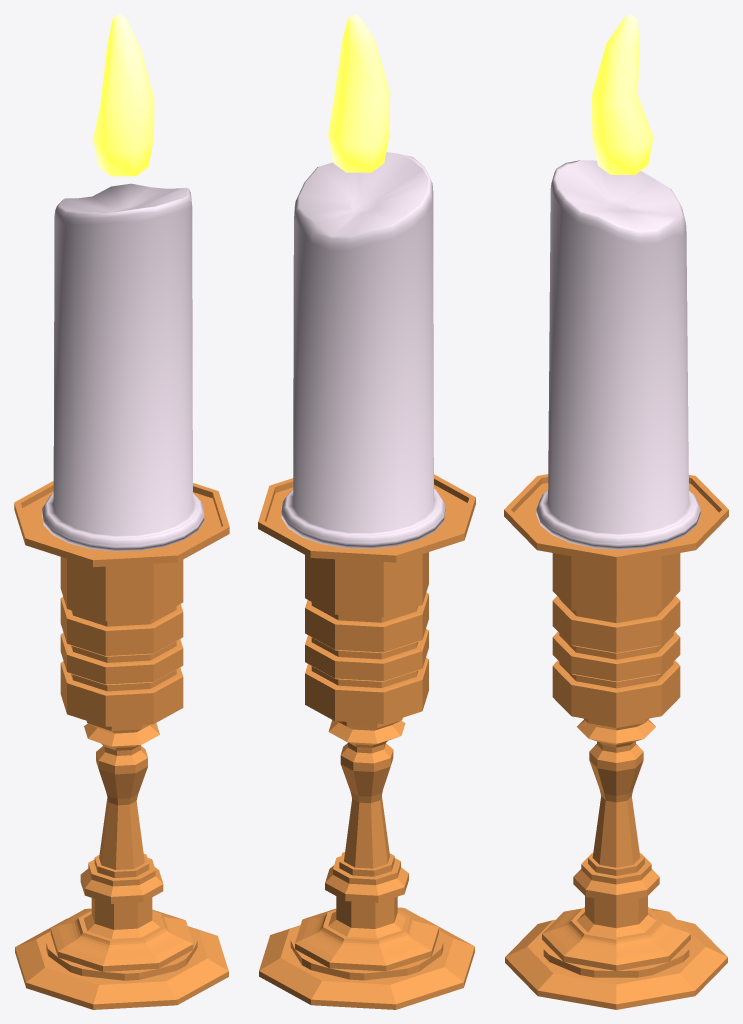
The model's file is CandleStand.fbx.
3 views of the same model, side by side, from view 1: azimuth 30°, elevation 25°; view 2: azimuth 150°, elevation 25°; view 3: azimuth 270°, elevation 25° (orthographic).
Parts seen in each view (by area): view 1: Cylinder, Cylinder.001, Sphere; view 2: Cylinder.001, Cylinder, Sphere; view 3: Cylinder, Cylinder.001, Sphere.
Boxes of the visible parts, bbox=[...] form: Cylinder: bbox=[14, 481, 229, 1009]; Cylinder.001: bbox=[42, 183, 204, 551]; Sphere: bbox=[93, 14, 154, 176]; Cylinder.001: bbox=[281, 152, 445, 548]; Cylinder: bbox=[258, 474, 475, 1009]; Sphere: bbox=[328, 14, 390, 172]; Cylinder: bbox=[504, 474, 728, 1009]; Cylinder.001: bbox=[536, 160, 700, 549]; Sphere: bbox=[591, 14, 653, 174].
Size of the model in its own units: 318 by 1487 by 318.
